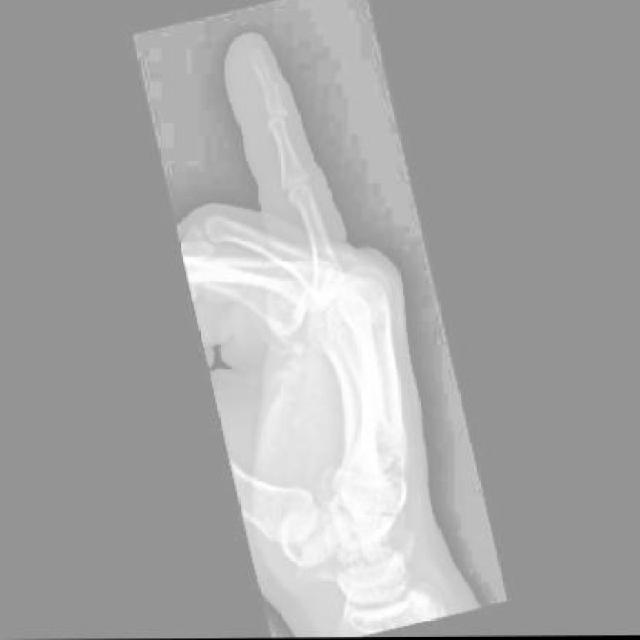Fracture: (250, 60, 284, 106)
